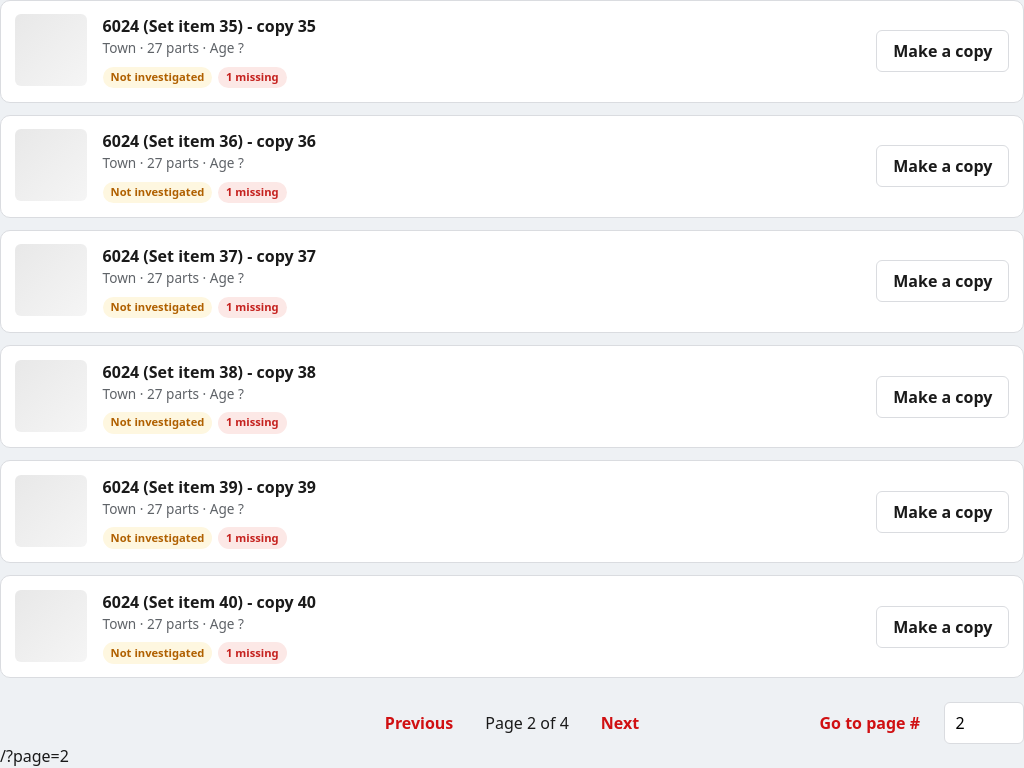
Test: SetsListPage › shows direct page navigation when there are more than two pages
This screenshot has width=1024, height=768.
(page scrolled)
Expected: the heading "6024 (Set item 1) - copy 1" is not shown
Expected: the text "Page 2 of 4" is shown, [485,712,569,736]
Replace the text in the number field named "page number" with "99" at {"x": 984, "y": 724}, box [944,702,1023,744]
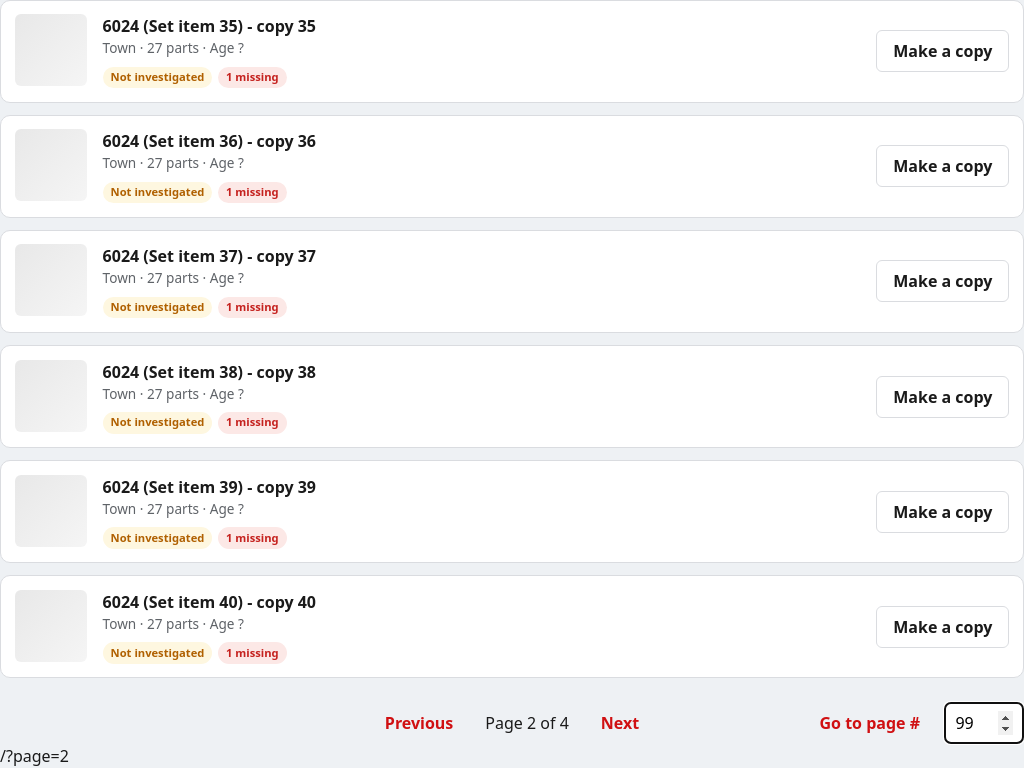
Click the button "Go to page #".
click(870, 724)  # box [804,704,936,744]
(page scrolled)
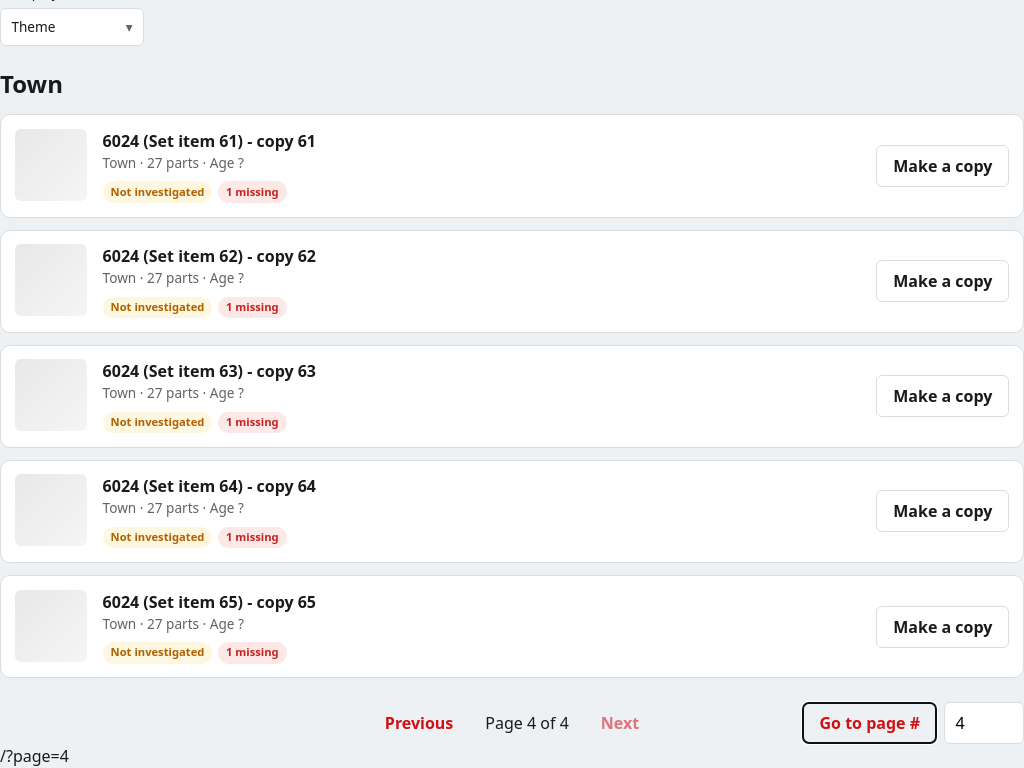
Expected: the heading "6024 (Set item 61) - copy 61" is shown, [103,129,316,153]
Replace the text in the number field named "page number" with "0" at {"x": 984, "y": 723}, box [944,702,1023,744]
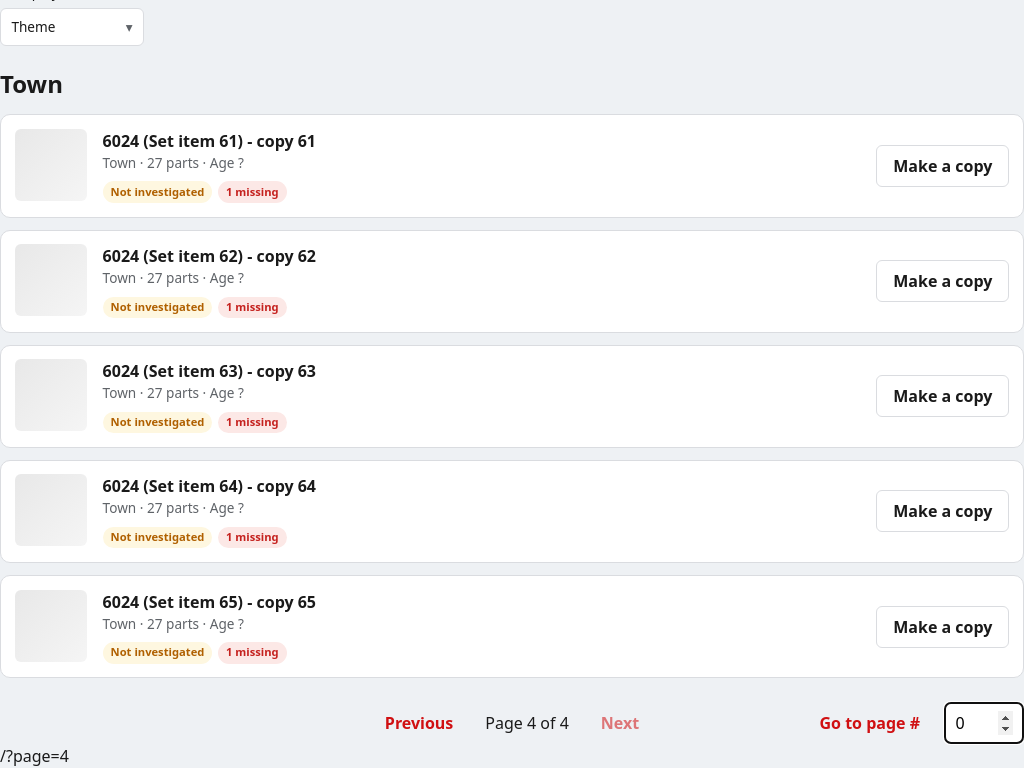
Click the button "Go to page #".
click(870, 723)  # box [804,703,936,743]
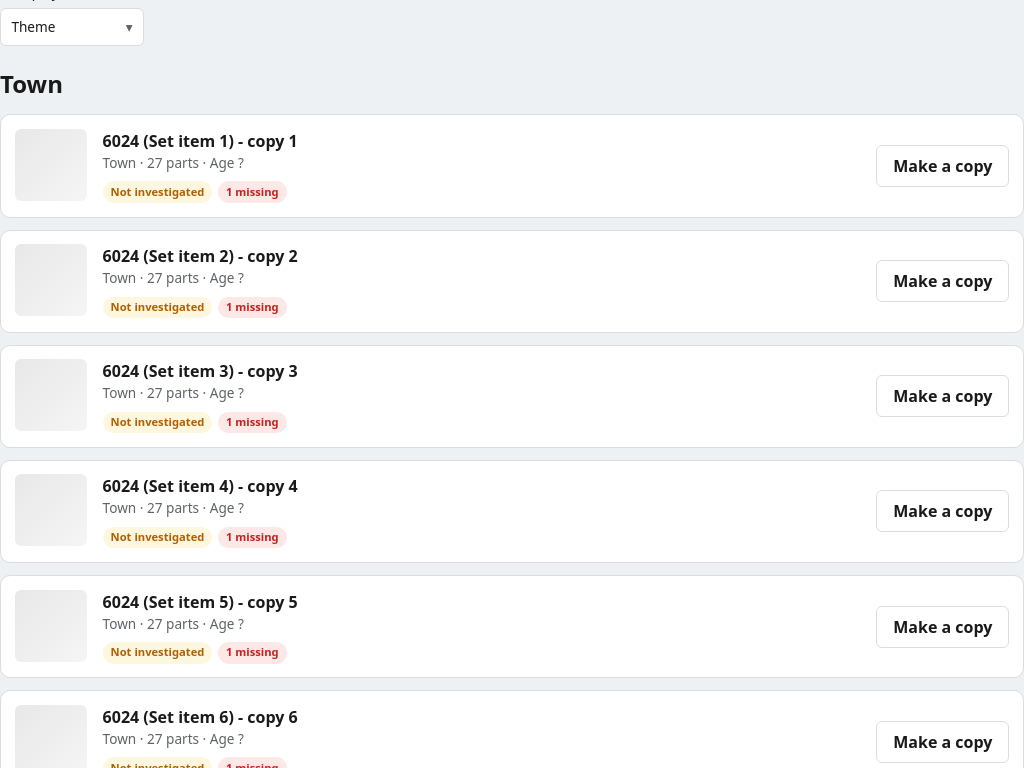
Expected: the heading "6024 (Set item 1) - copy 1" is shown, [103,129,298,153]
